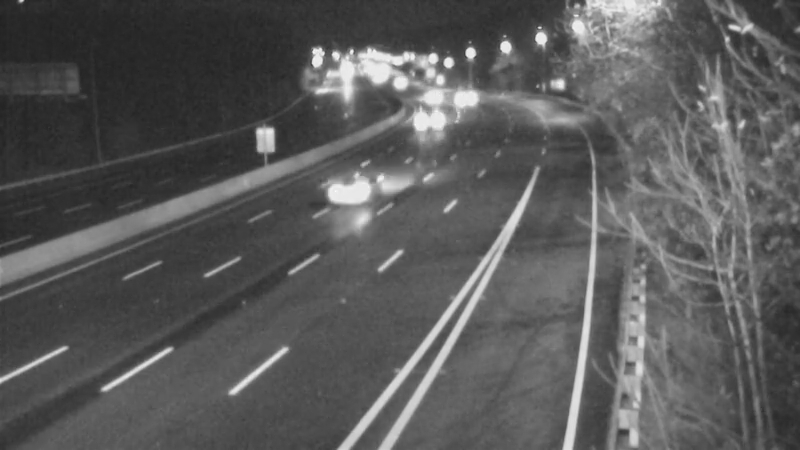vehicle: (303, 157, 383, 237), (372, 56, 422, 106), (405, 70, 455, 120), (439, 73, 489, 123), (398, 94, 448, 144)
